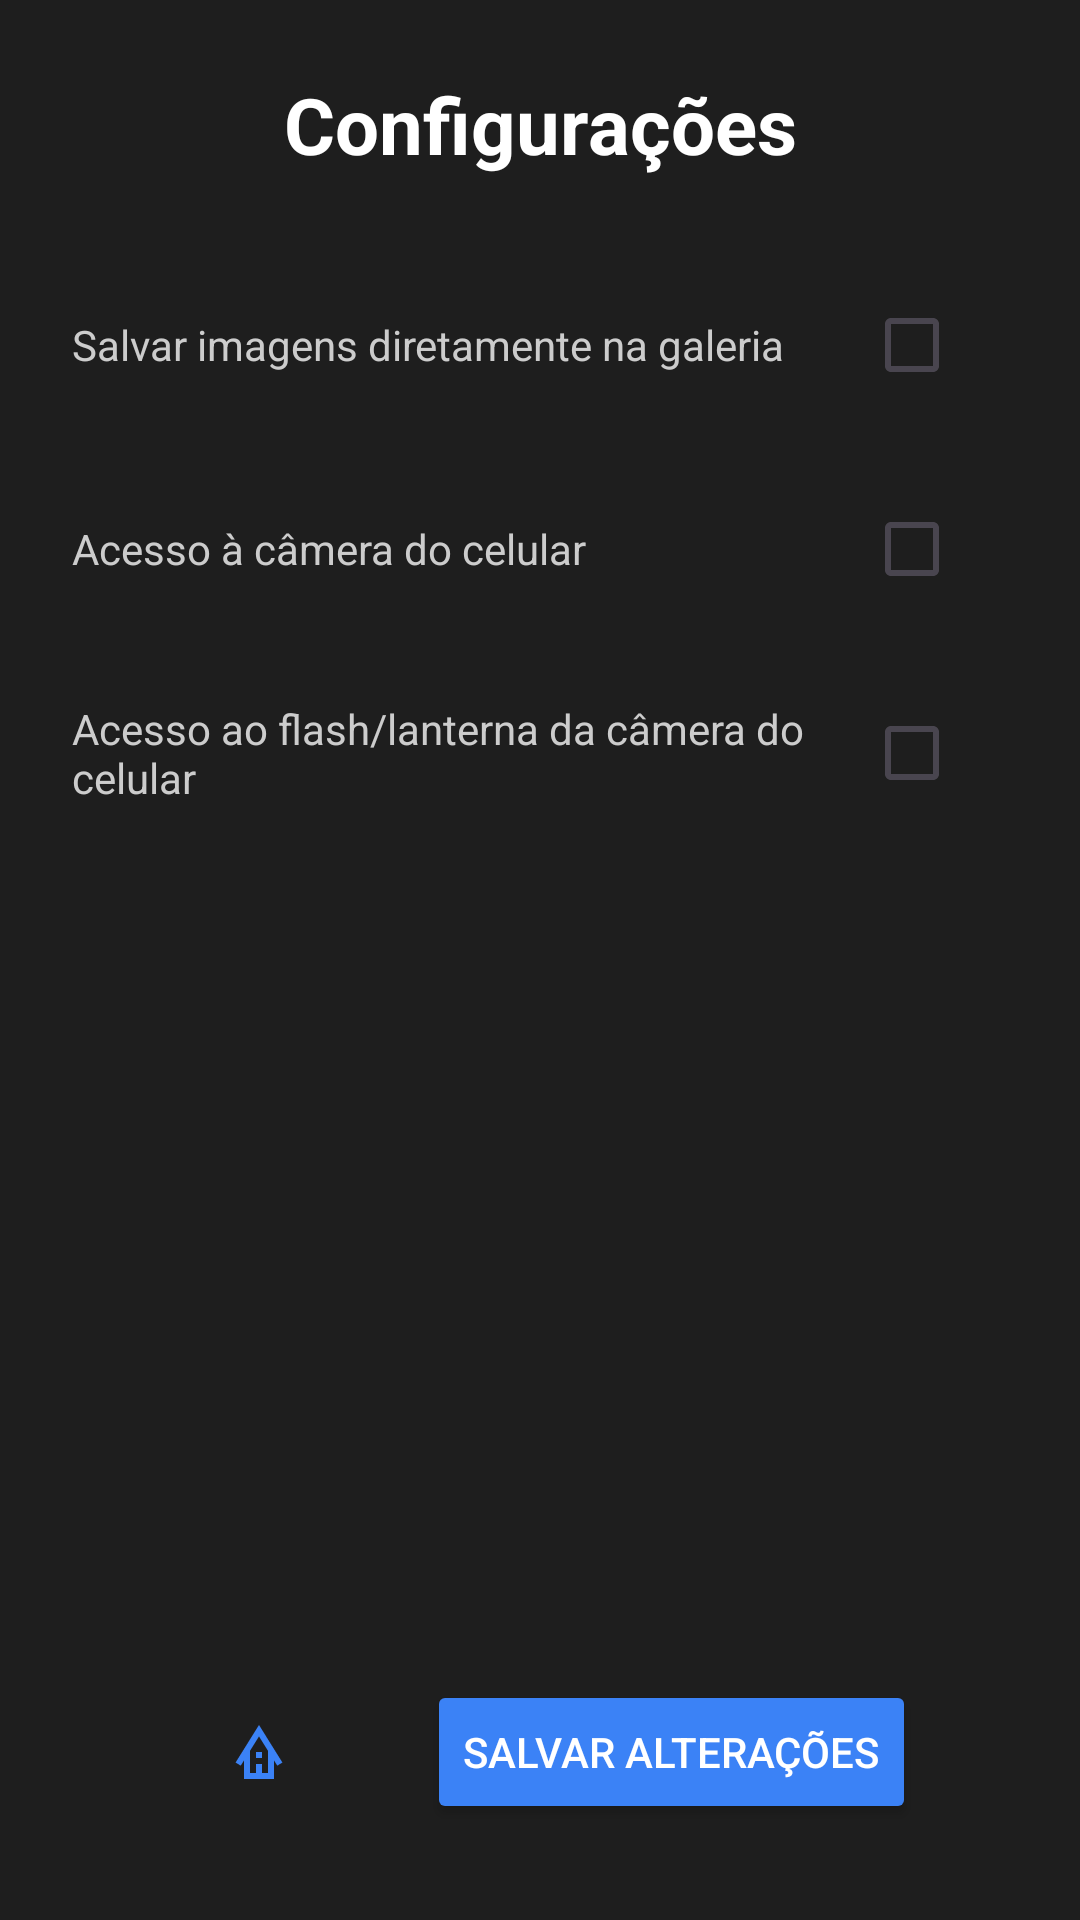

Named icons in this screenshot (1080 x 1920) and their centers, (x=x, y=y):
Início: (x=259, y=1752)
